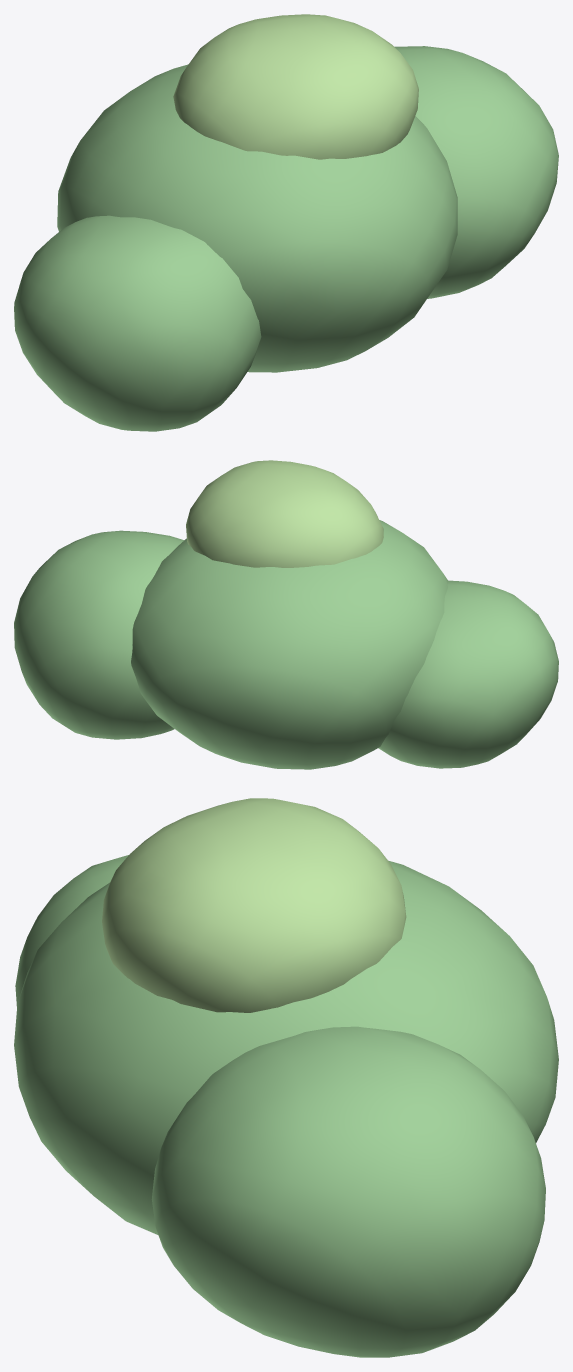
The model's file is Bush.fbx.
3 renders of one model, top to bottom at view 1: azimuth 30°, elevation 25°; view 2: azimuth 150°, elevation 25°; view 3: azimuth 270°, elevation 25°, orthographic. The views are drawn at different scales.
Visible parts, largest first — view 1: Bush; view 2: Bush; view 3: Bush.
Part boxes in pixels (x1,y1,x2,y2): Bush: (14,14,558,431); Bush: (14,460,558,769); Bush: (14,798,558,1357).
Size of the model in its own units: 1.22 by 0.6608 by 0.7672.
